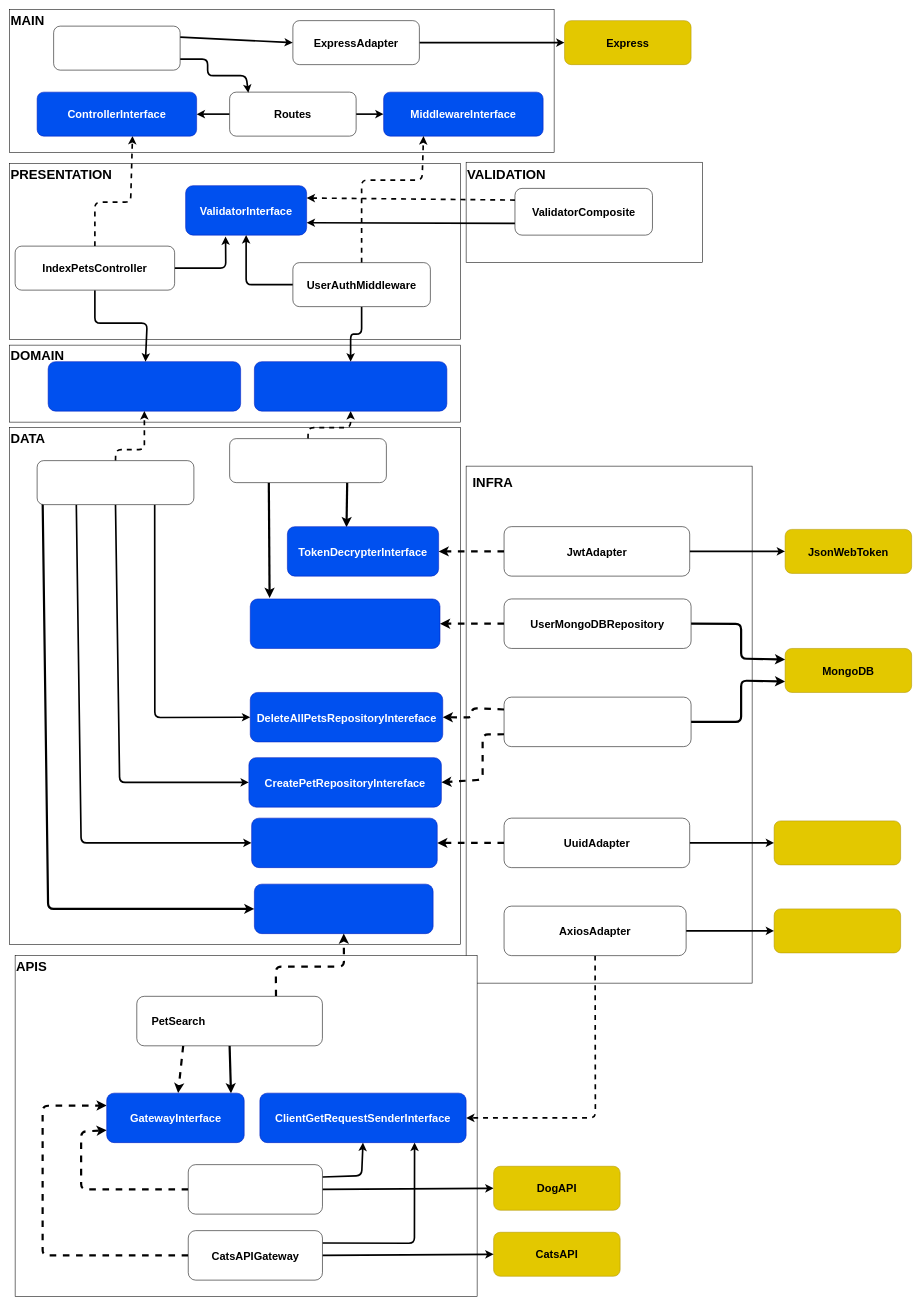
The diagram is 921 pixels wide and 1306 high, and some of its shapes have lost their labels. The centre of each missing label's shape, as x and y in pixels:
"AppRunner" belongs at [116,48].
"Axios" belongs at [837,930].
"DogsAPIGateway" belongs at [255,1189].
"GetUserByIdRepositoryInterface" belongs at [345,623].
"GetUserByToken UseCaseInterface" belongs at [350,386].
"GetUserByTokenService" belongs at [307,460].
"IdGeneratorInterface" belongs at [344,843].
"IndexPets UseCaseInterface" belongs at [144,386].
"IndexPetsService" belongs at [115,482].
"PetMongoDBRepository" belongs at [597,722].
"PetSearcherInterface" belongs at [343,909].
"Uuid" belongs at [837,842].
